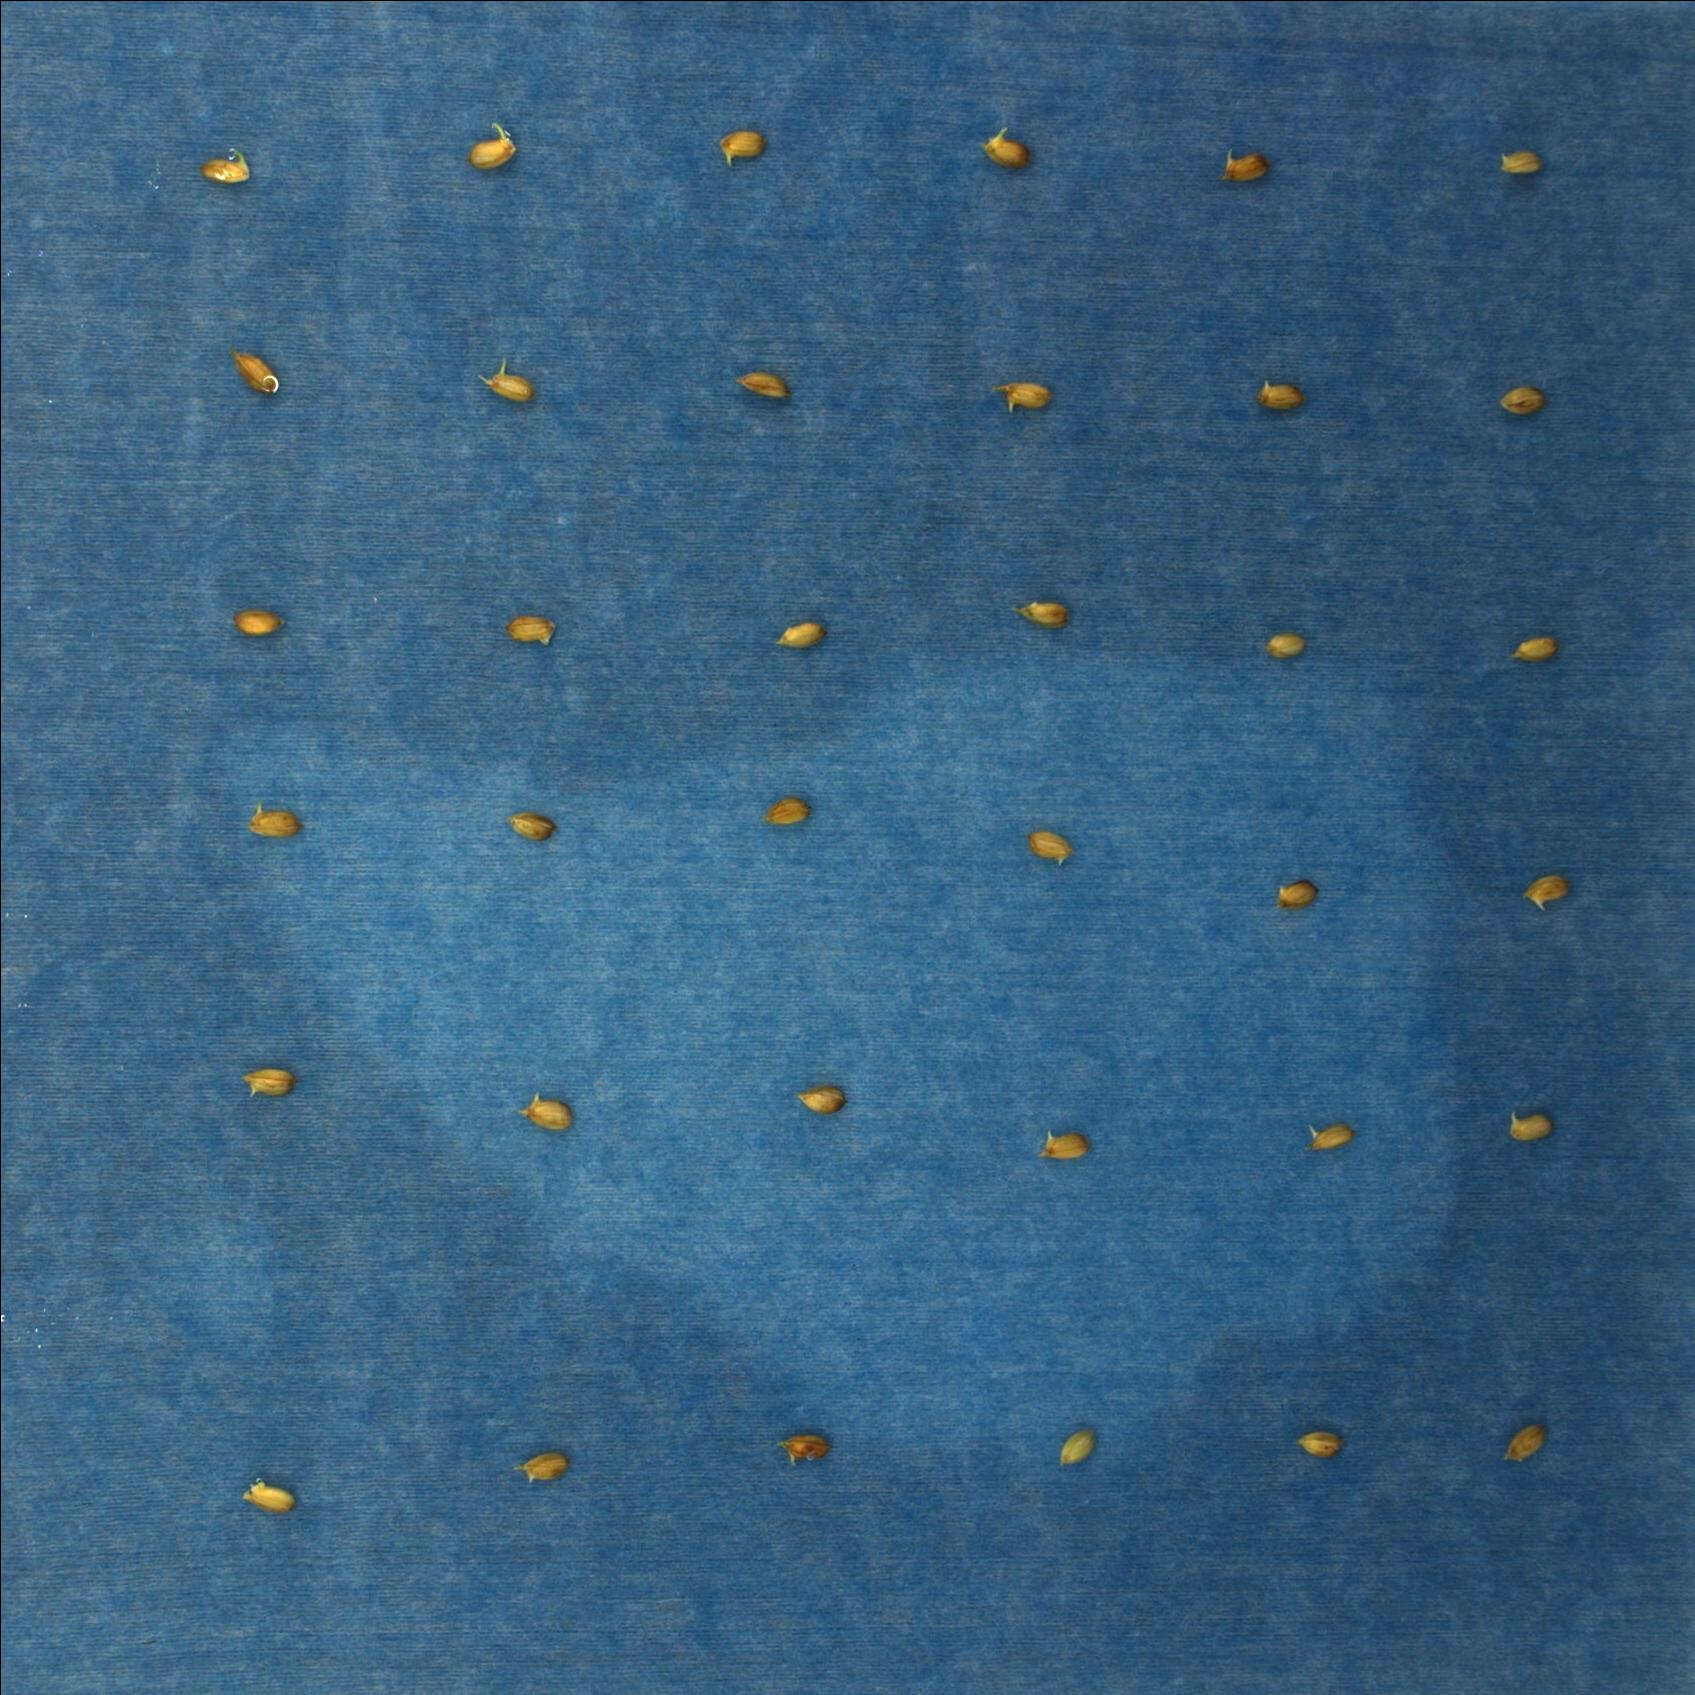not sprout: (480, 357, 539, 405), (467, 120, 520, 172), (228, 345, 279, 394), (522, 1087, 574, 1135), (1499, 1419, 1551, 1465), (717, 124, 771, 166), (1520, 871, 1574, 913), (239, 1065, 300, 1101), (983, 126, 1034, 168), (1220, 143, 1271, 185), (1010, 599, 1076, 632), (245, 1478, 300, 1515), (778, 1433, 832, 1470), (251, 801, 303, 840), (514, 1451, 568, 1487), (1059, 1426, 1105, 1467), (998, 379, 1055, 411), (1499, 380, 1548, 418), (508, 809, 557, 844), (1028, 830, 1077, 866), (737, 368, 792, 400), (200, 147, 251, 182), (231, 604, 284, 636), (778, 621, 830, 653), (764, 793, 813, 827), (508, 613, 559, 646), (1277, 879, 1324, 914), (799, 1085, 858, 1113), (1512, 633, 1562, 666), (1301, 1430, 1346, 1465), (1038, 1130, 1090, 1161), (1499, 144, 1548, 177), (1304, 1121, 1350, 1153), (1510, 1108, 1557, 1141), (1259, 380, 1305, 410), (1263, 633, 1310, 658)
